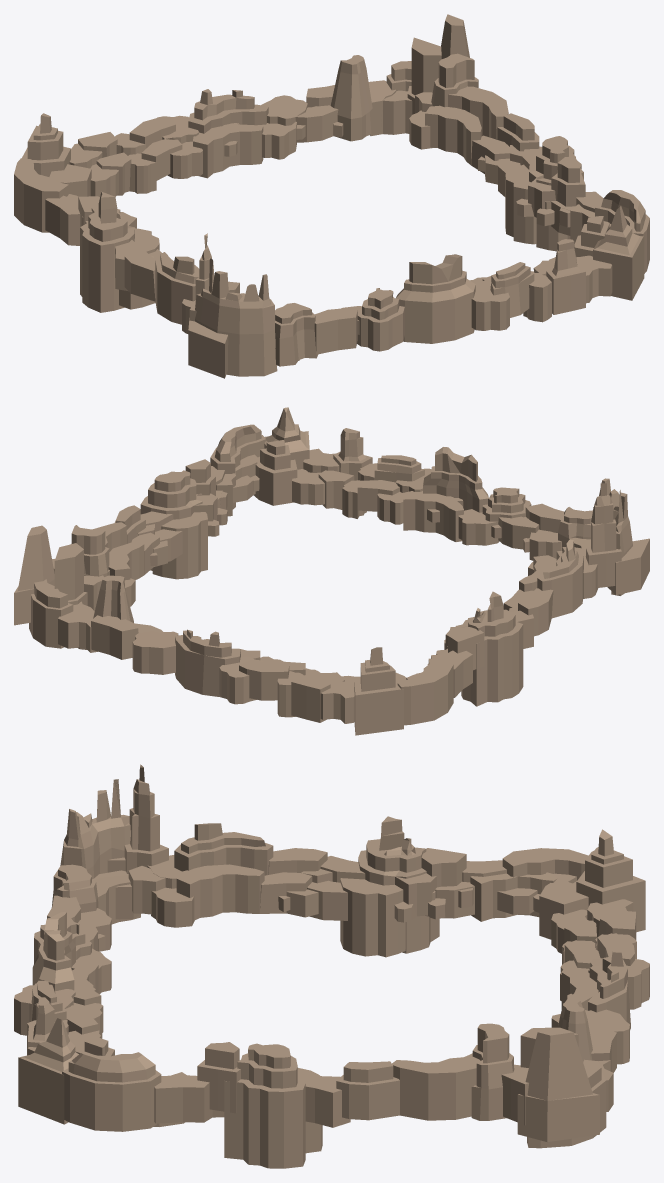
Rendered from RockCircus.fbx.
3 views of the same model, one above another, from view 1: azimuth 30°, elevation 25°; view 2: azimuth 150°, elevation 25°; view 3: azimuth 270°, elevation 25° (orthographic). The views are drawn at different scales.
Visible parts, largest first — view 1: RockCircus; view 2: RockCircus; view 3: RockCircus.
Part boxes in pixels (x1,y1,x2,y2): RockCircus: (14, 14, 649, 378); RockCircus: (14, 407, 649, 735); RockCircus: (14, 764, 649, 1168).
Size of the model in its own units: 7612 by 7728 by 2243.
